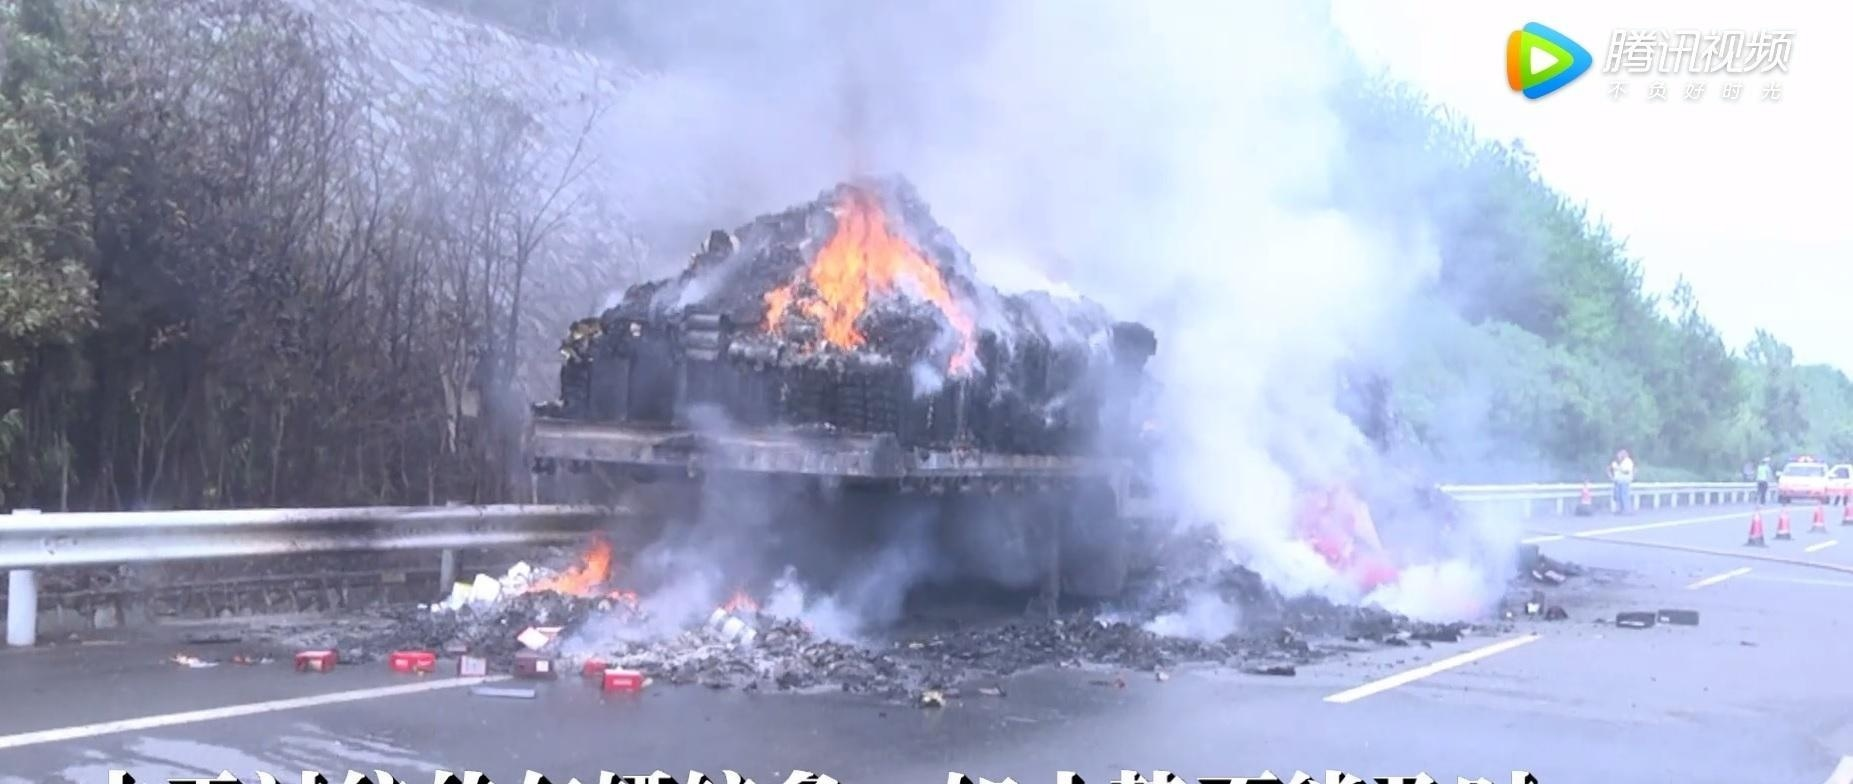fire: (755, 187, 986, 369), (534, 539, 620, 597)
